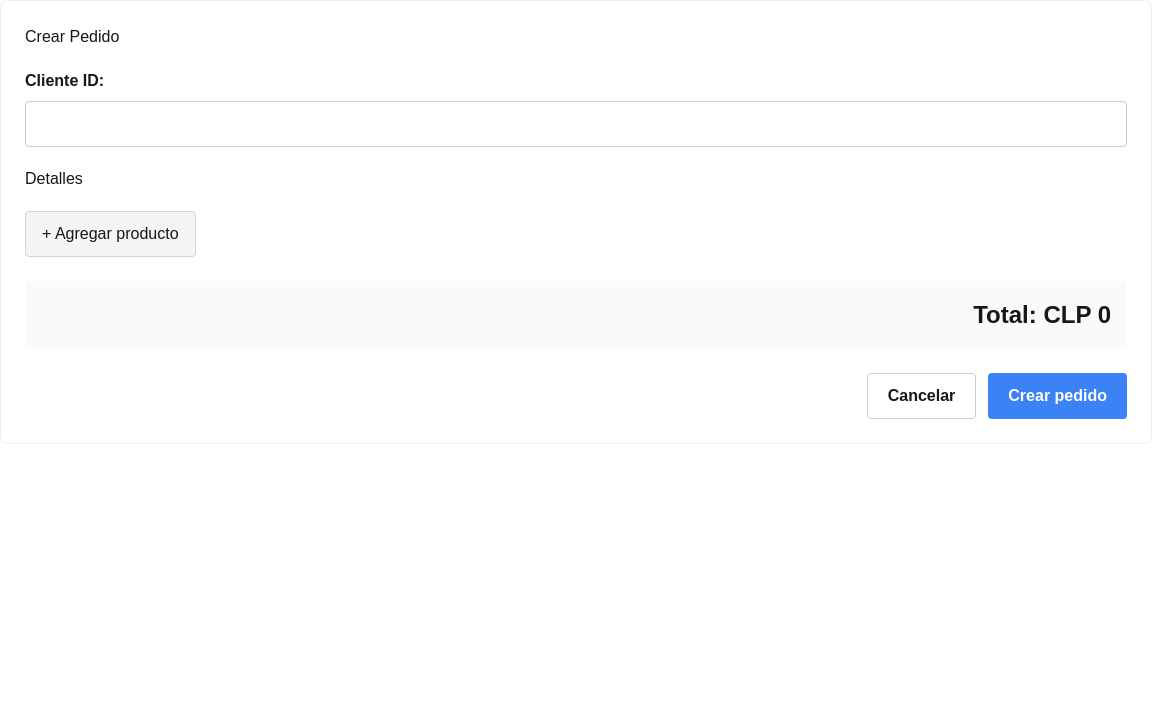
cantidad mayor al stock disponible muestra validación
The width and height of the screenshot is (1152, 720).
Click the button "+ Agregar producto" at x=110, y=234, box [25,211,196,257]
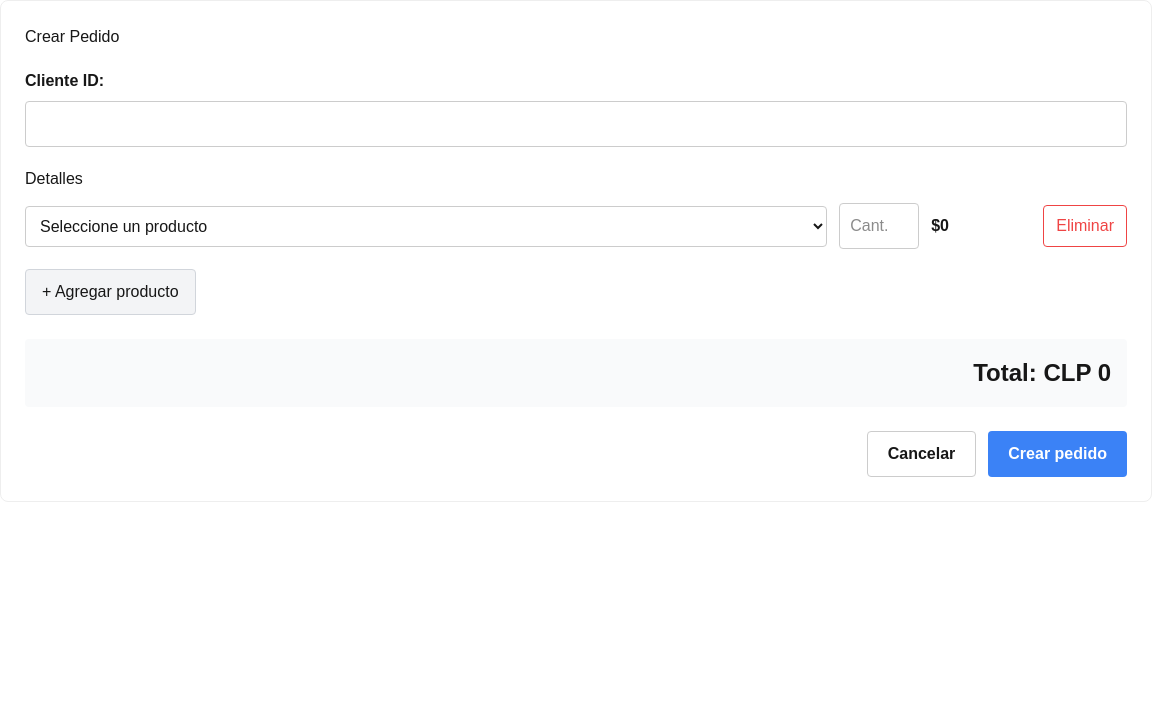
Select "Silla (Stock: 5)" in the dropdown at x=426, y=226, box [25,206,827,246]
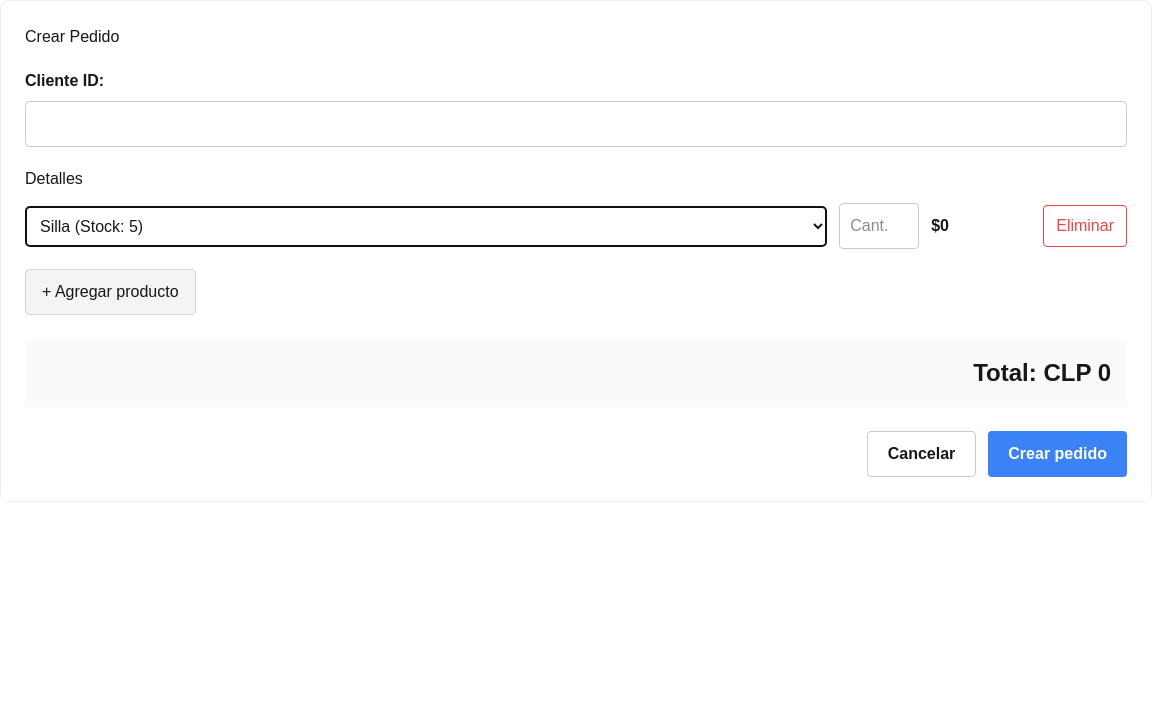
Type "99" into the number field at x=879, y=226, box [839,203,919,249]
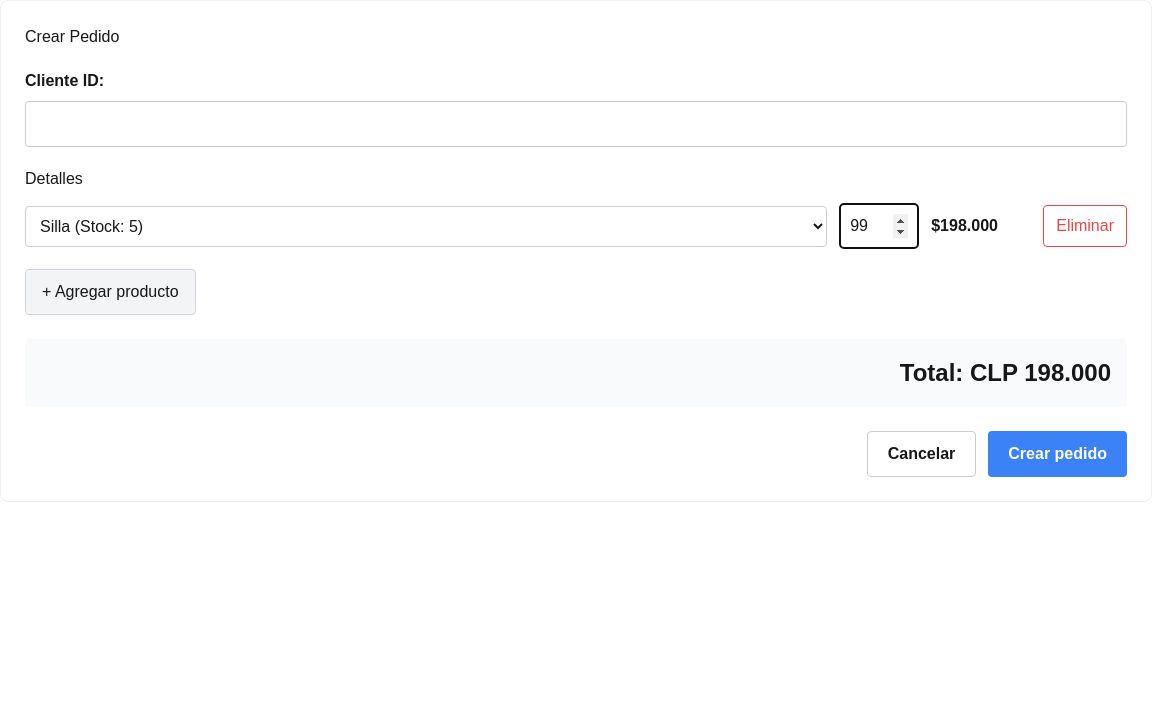
Click the button "Crear pedido" at x=1058, y=454, box [988,431,1127,477]
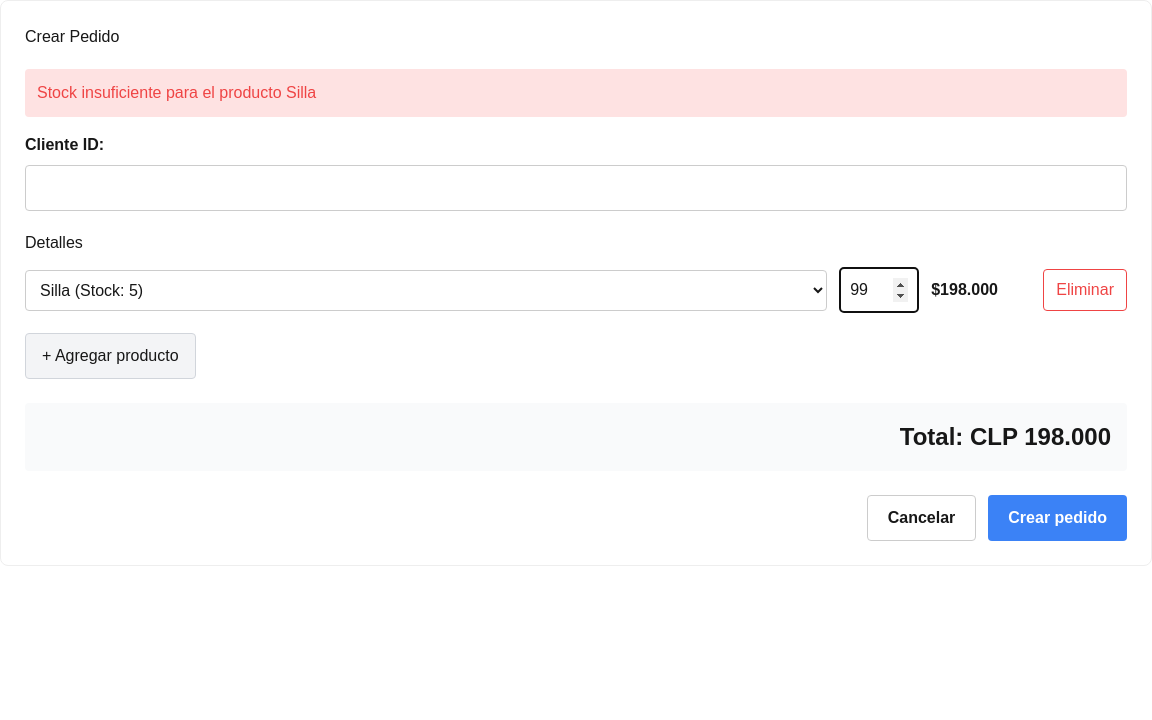
Expected: the text "Stock insuficiente para el producto Silla" is shown, [25,69,1127,117]
